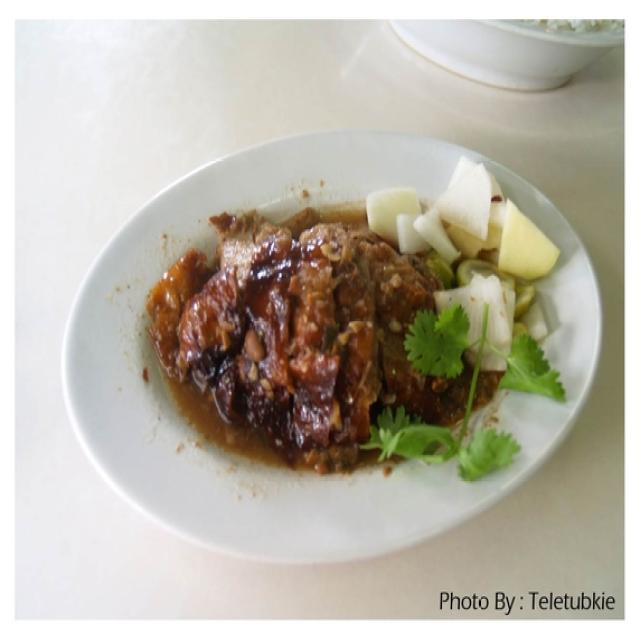牛肉菜式: (91, 112, 590, 546)
